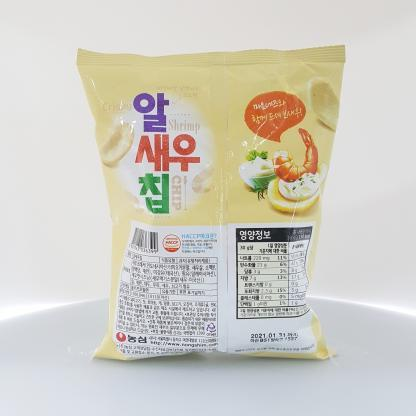Plastic Packaging: (66, 38, 362, 370)
